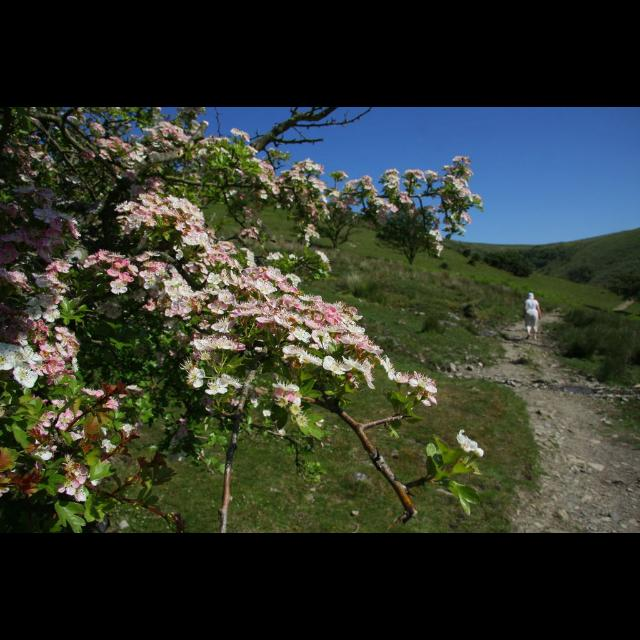Flower: (0, 108, 488, 500)
